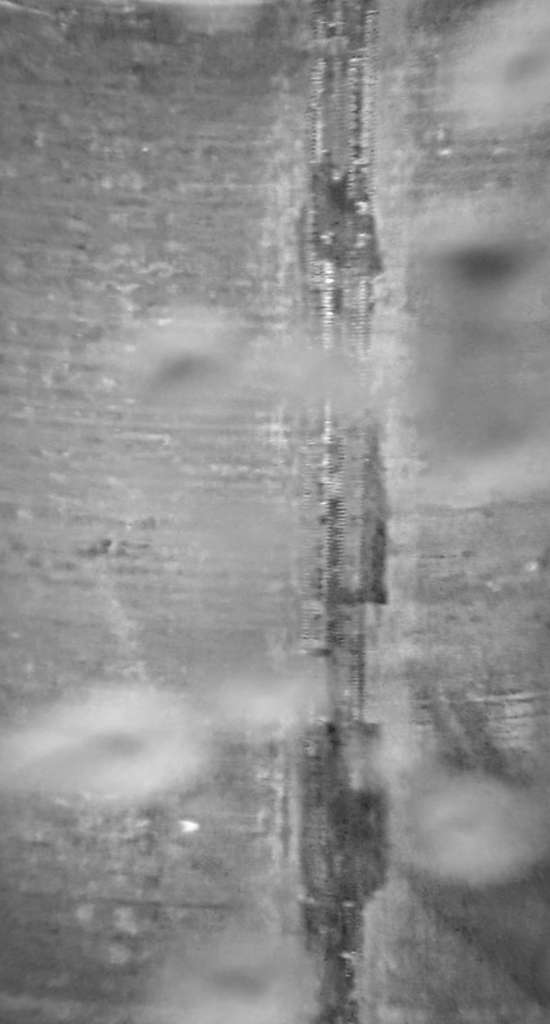splice: (288, 1, 394, 1024)
